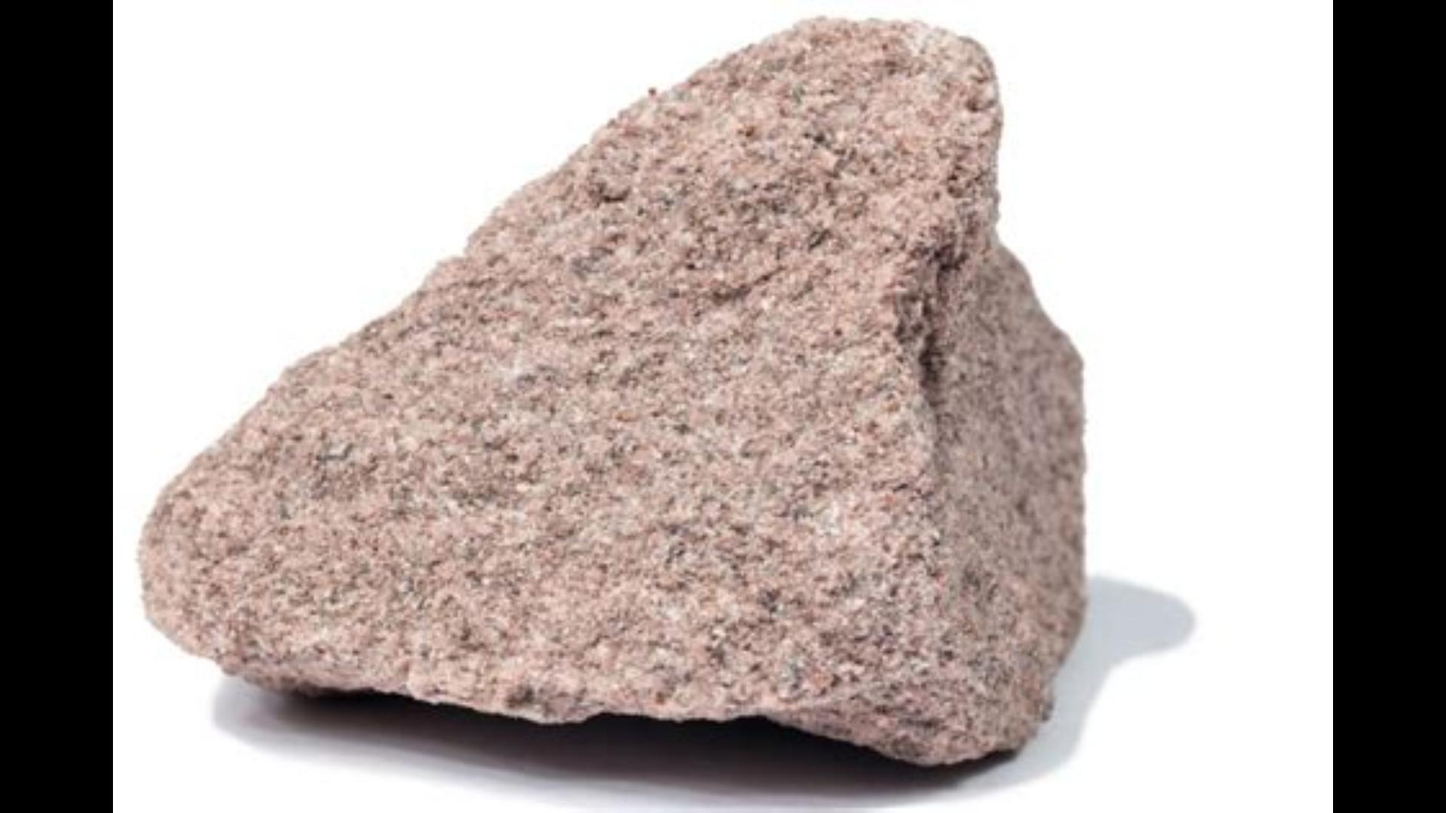rock: (141, 21, 1081, 759)
